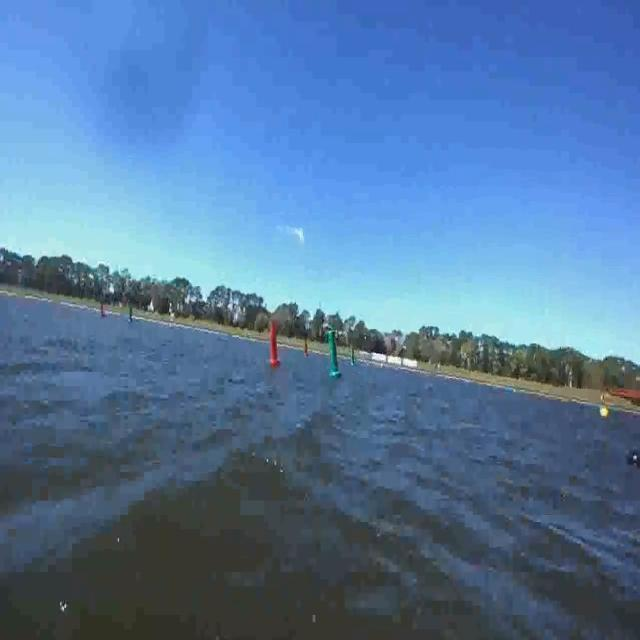black-buoy: (624, 446, 640, 470)
green-column-buoy: (326, 330, 342, 377), (129, 304, 136, 324), (352, 351, 358, 367)
red-column-buoy: (269, 320, 281, 368), (98, 298, 105, 317), (305, 341, 310, 358)
yellow-buoy: (599, 404, 610, 422)
